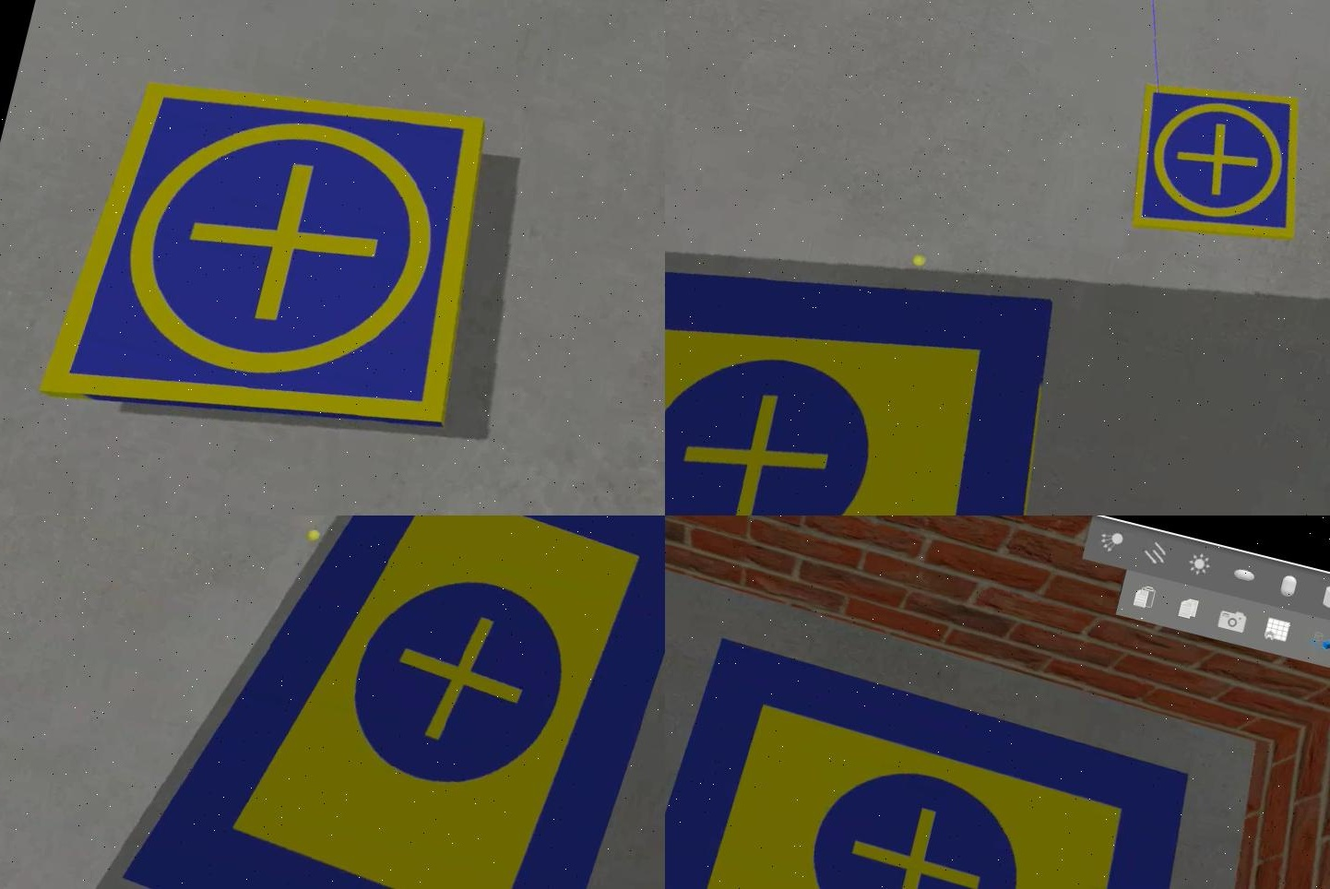large_base: (109, 516, 663, 889), (663, 181, 1099, 516), (663, 631, 1219, 889)
small_base: (30, 26, 517, 493), (1105, 58, 1328, 273)
